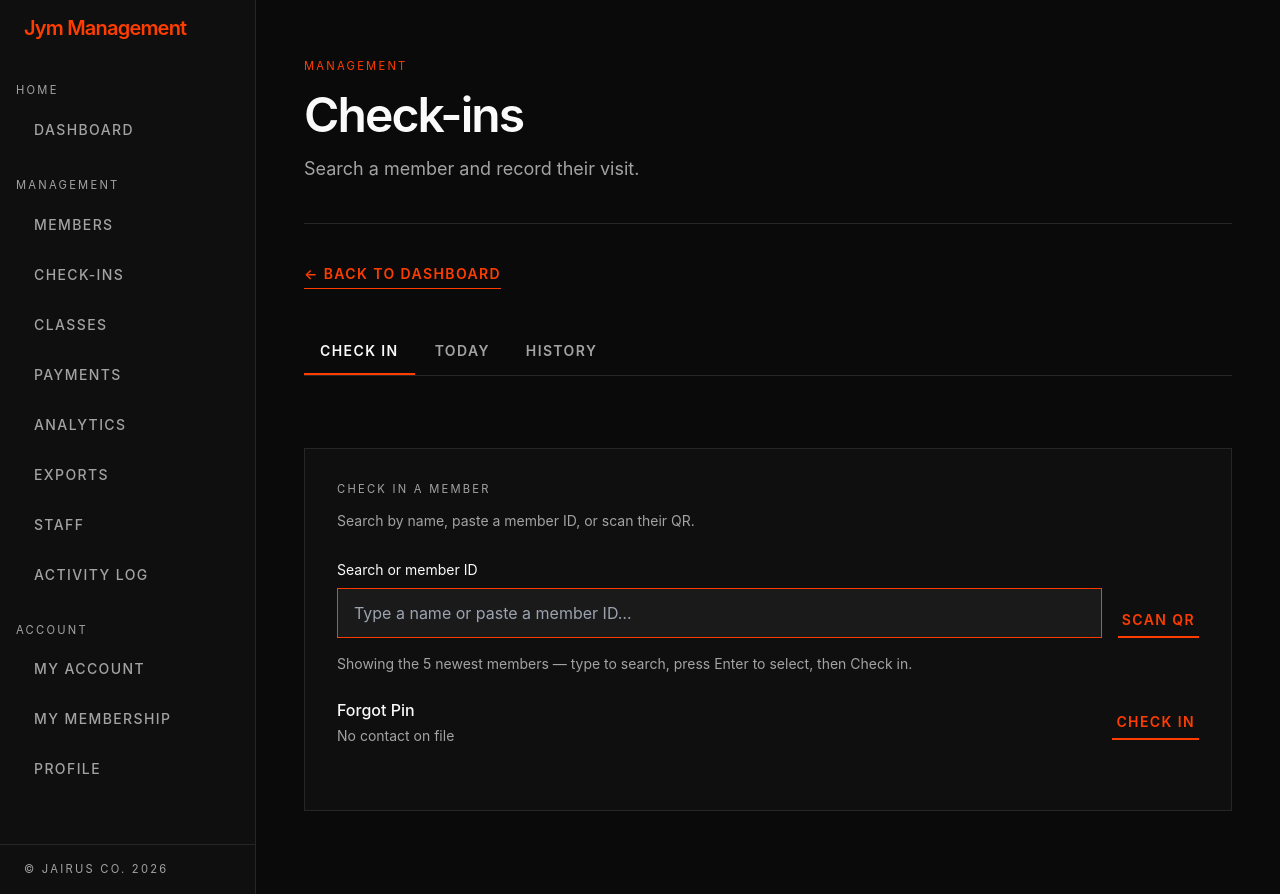
it: CheckInsPage › lets staff override the PIN gate when the member forgot their PIN
This screenshot has width=1280, height=894.
Expected: the text "Forgot Pin" is shown, [337,700,415,720]
What coordinates should you click on to do the following:
click the button "Check in"
I would click on:
 (1156, 722)
Its box is [1112,704,1199,740].
(page scrolled)
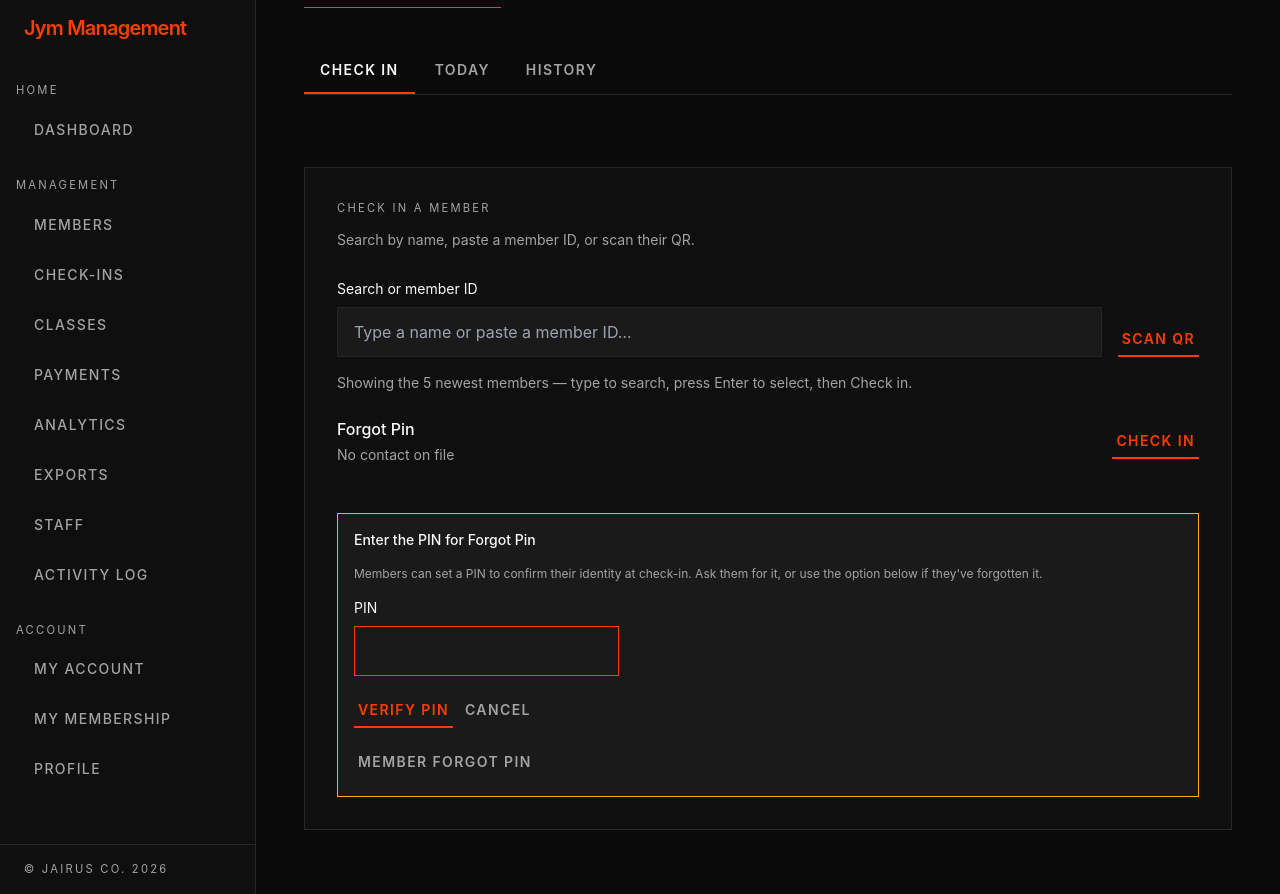
Expected: the text "Enter the PIN for Forgot Pin" is shown, [354,531,536,548]
What coordinates should you click on to do the following:
click the button "Member forgot PIN"
I would click on:
 (445, 762)
Its box is [354,744,1182,780].
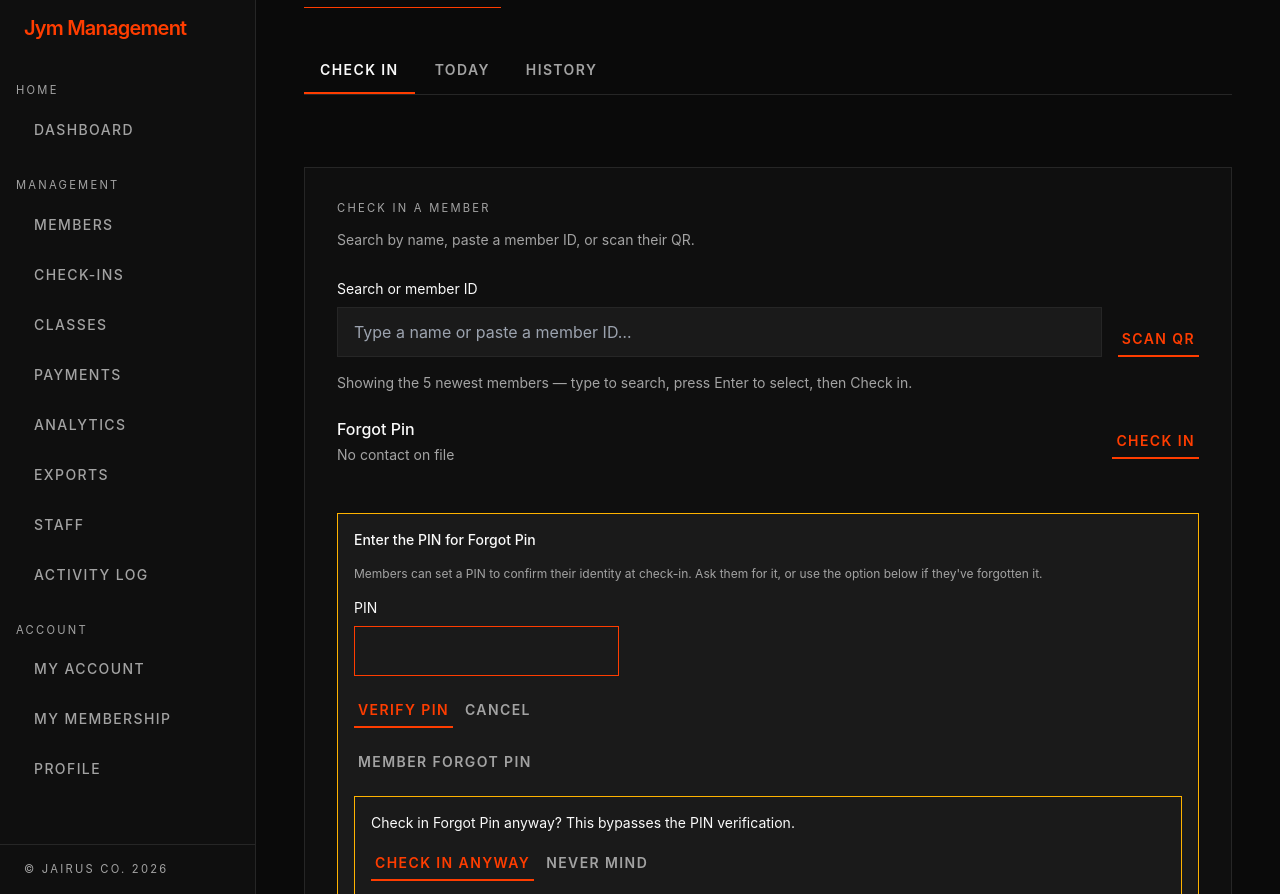
What coordinates should you click on to do the following:
click the button "Check in anyway"
I would click on:
 (453, 863)
Its box is [371,845,534,881].
(page scrolled)
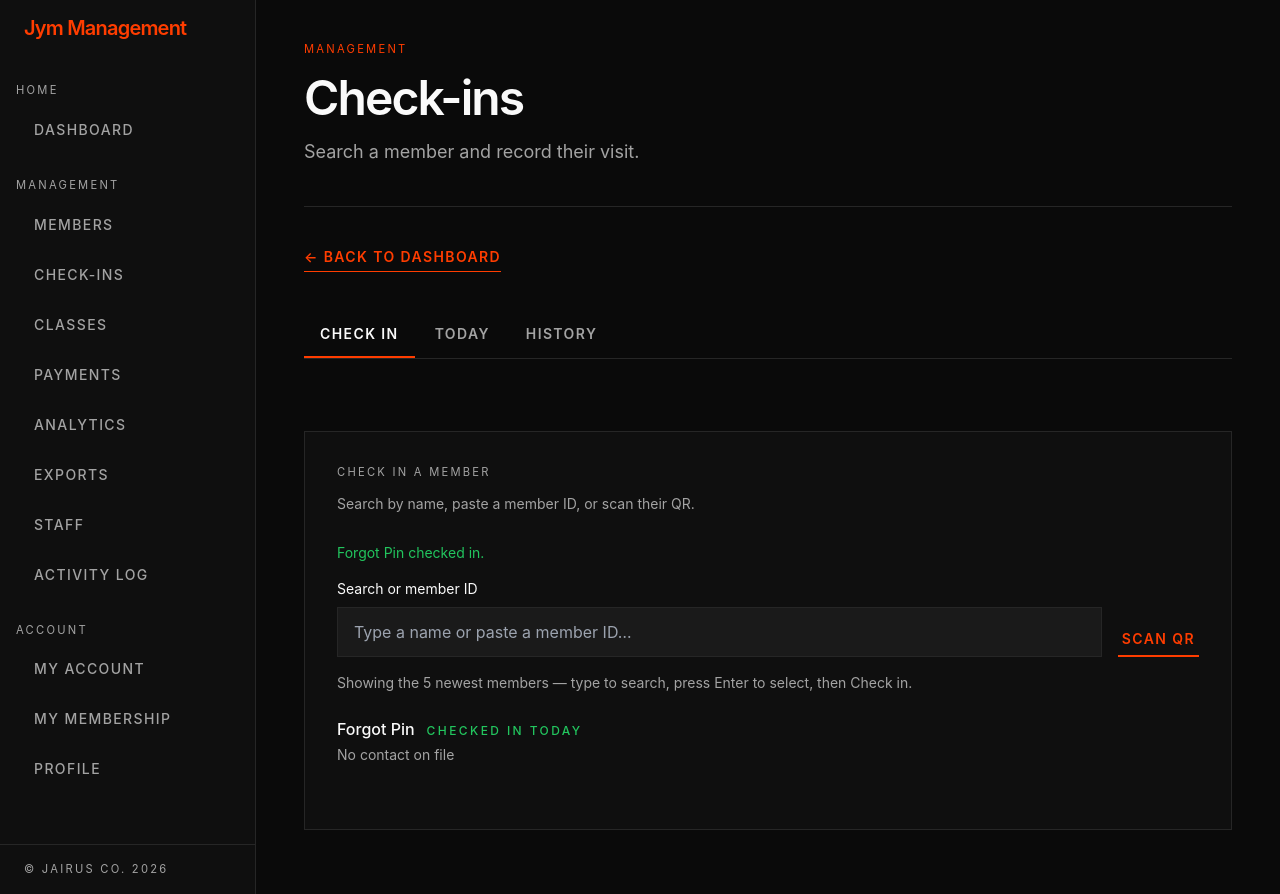
Expected: the text "Forgot Pin checked in." is shown, [337,544,484,561]
